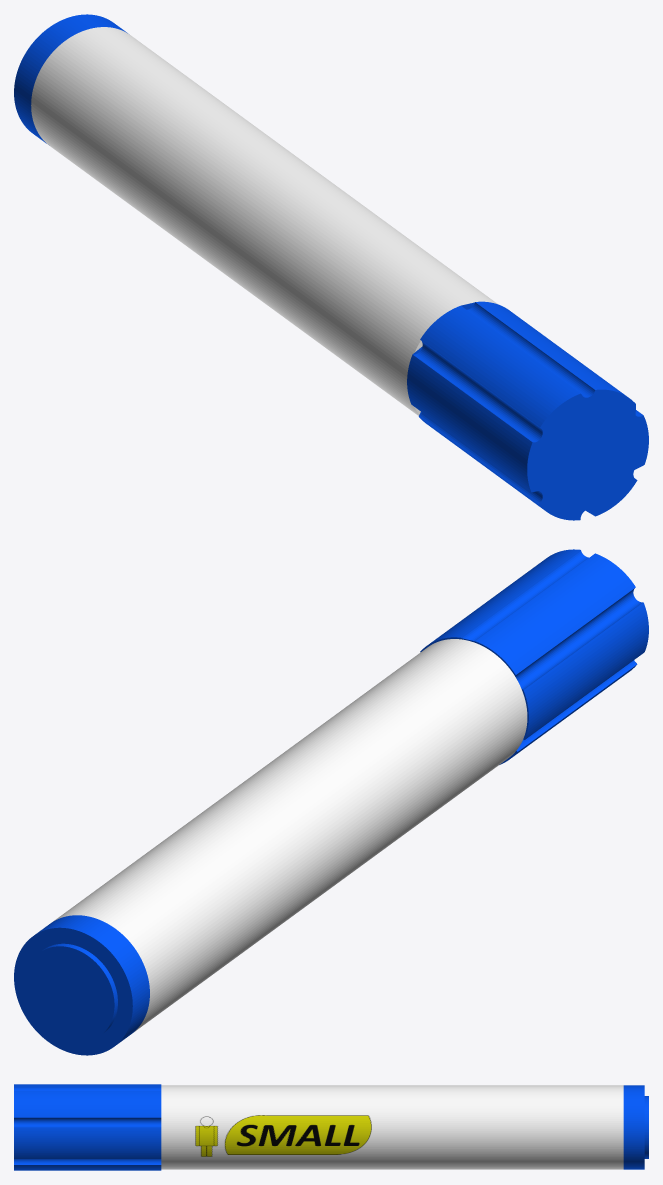
Rendered from bluesmall.fbx.
The picture shows the model from 3 angles, top to bottom: view 1: azimuth 30°, elevation 25°; view 2: azimuth 150°, elevation 25°; view 3: azimuth 270°, elevation 25°; orthographic projection. The views are drawn at different scales.
Visible parts, largest first — view 1: Cylinder, Cylinder.001, Cylinder.002; view 2: Cylinder, Cylinder.001, Cylinder.002, Cylinder.003; view 3: Cylinder, Cylinder.001, Cylinder.002, Cylinder.003.
Boxes of the visible parts, box(x1,y1,x2,y2) form: Cylinder: box(31, 27, 497, 415); Cylinder.001: box(407, 301, 648, 520); Cylinder.002: box(14, 14, 127, 143); Cylinder: box(53, 639, 527, 1031); Cylinder.001: box(420, 549, 648, 764); Cylinder.002: box(14, 915, 149, 1055); Cylinder.003: box(25, 943, 117, 1041); Cylinder: box(161, 1085, 623, 1169); Cylinder.001: box(14, 1084, 161, 1170); Cylinder.002: box(623, 1085, 644, 1169); Cylinder.003: box(644, 1096, 648, 1158).
Bounding box in the file's own units: 2.05 × 2.03 × 15.1.
2 materials, 1 textured.
